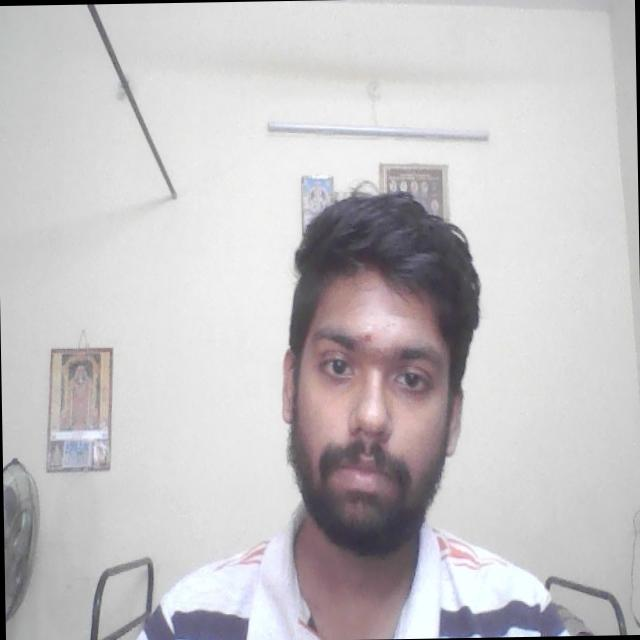Focused: (278, 282, 462, 531)
